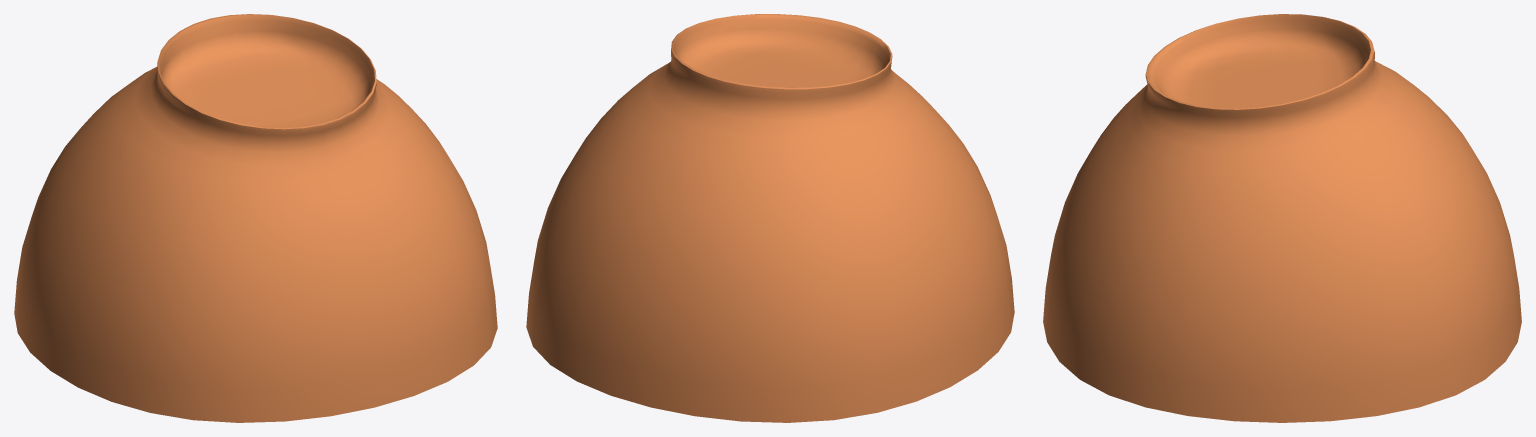
3 renders of one model, left to right at view 1: azimuth 30°, elevation 25°; view 2: azimuth 150°, elevation 25°; view 3: azimuth 270°, elevation 25°, orthographic.
Parts seen in each view (by area): view 1: turtle_neck; view 2: turtle_neck; view 3: turtle_neck.
Part boxes in pixels (<box>): turtle_neck: <box>14,14,497,422</box>; turtle_neck: <box>526,14,1014,422</box>; turtle_neck: <box>1043,14,1521,422</box>.
Bounding box in the file's own units: 1.36 × 0.852 × 1.36.
